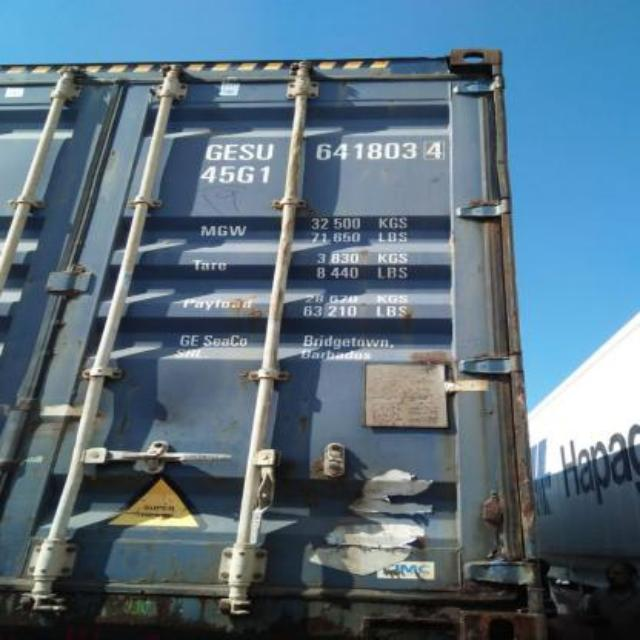0: (383, 136, 401, 164)
1: (350, 136, 366, 164)
3: (402, 136, 422, 166)
4: (330, 136, 348, 166), (424, 138, 446, 162)
6: (312, 139, 332, 163)
8: (367, 136, 383, 166)
E: (222, 136, 240, 160)
G: (204, 138, 222, 162)
S: (242, 140, 254, 164)
U: (258, 140, 276, 164)
